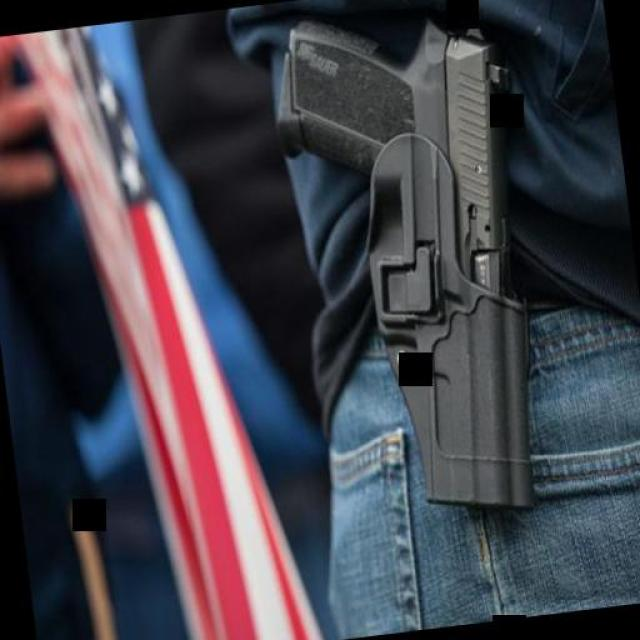gun: (258, 0, 576, 554)
